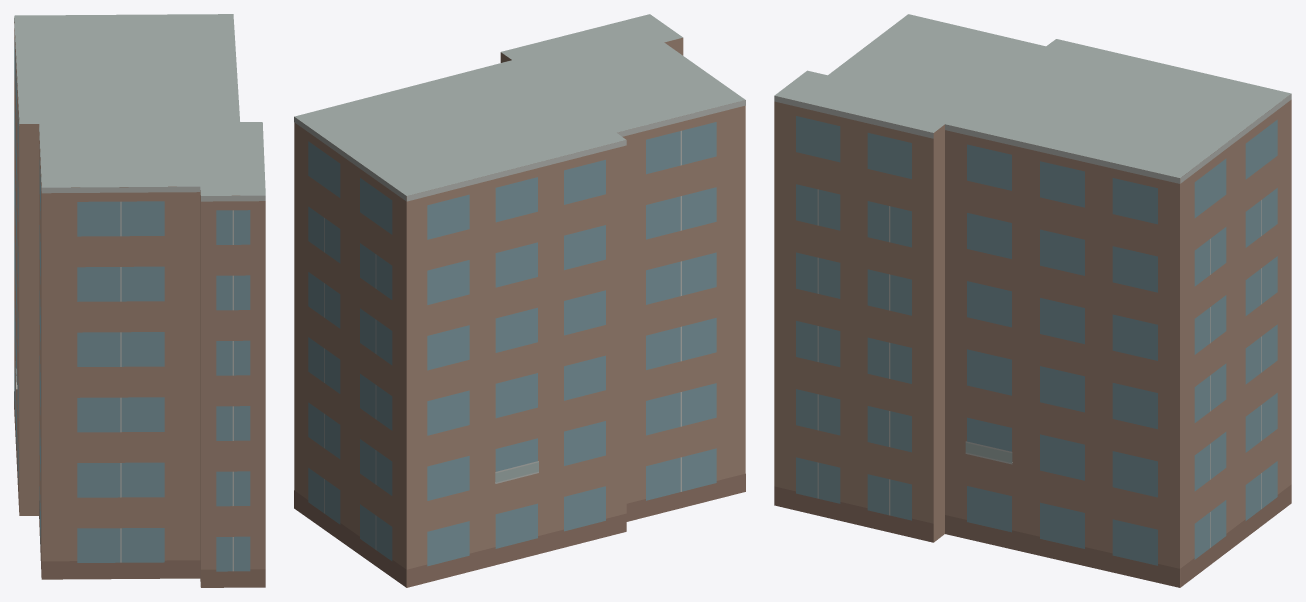
The model's file is survey-upis-32741468.glb.
3 renders of one model, left to right at view 1: azimuth 30°, elevation 25°; view 2: azimuth 150°, elevation 25°; view 3: azimuth 270°, elevation 25°, orthographic. The views are drawn at different scales.
Parts seen in each view (by area): view 1: survey-upis-32741468.tmp; view 2: survey-upis-32741468.tmp; view 3: survey-upis-32741468.tmp.
Part boxes in pixels (box(x1,y1,x2,y2)): survey-upis-32741468.tmp: box(14, 14, 265, 587); survey-upis-32741468.tmp: box(294, 14, 745, 587); survey-upis-32741468.tmp: box(774, 14, 1291, 587).
Size of the model in its own units: 14.79 by 17.2 by 19.69.
